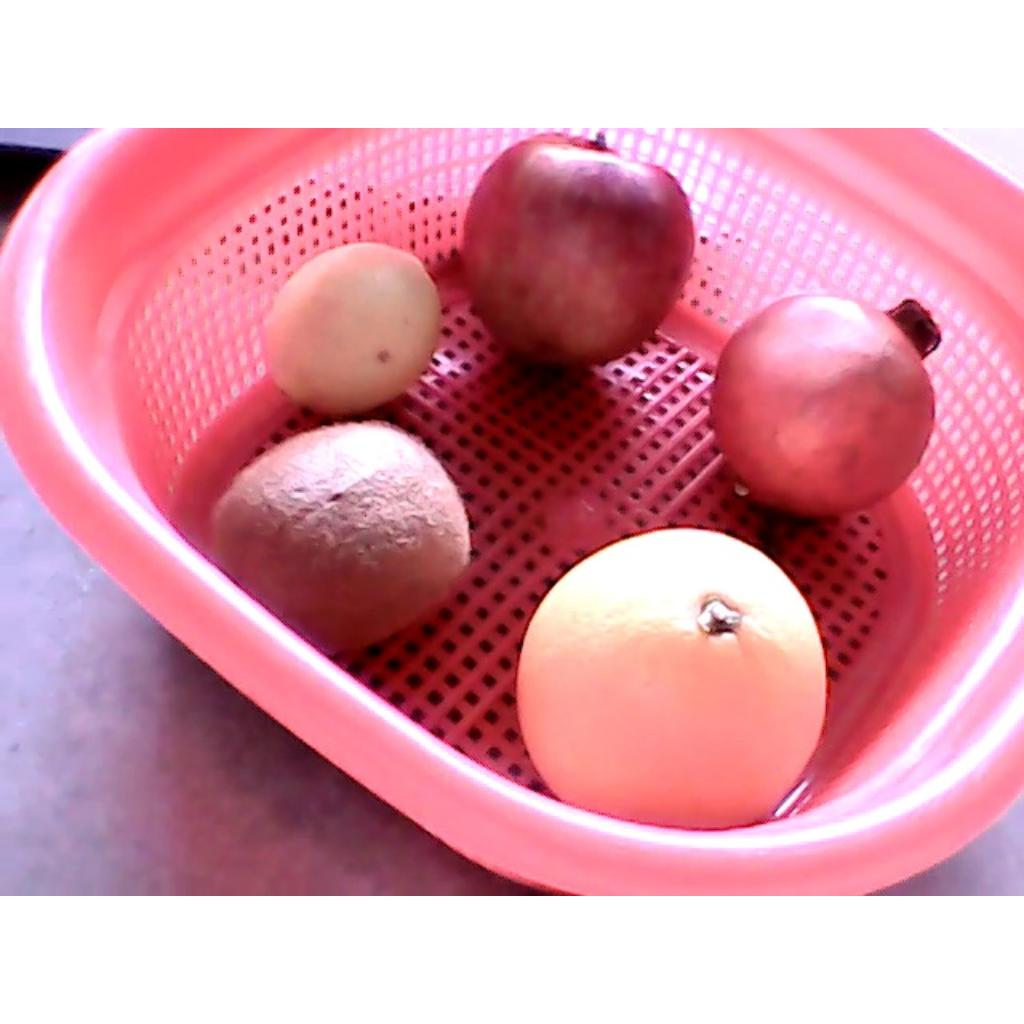apple: (463, 134, 695, 368)
kiwi: (204, 419, 474, 659)
lemon: (259, 239, 442, 415)
orange: (516, 527, 829, 832)
pomegranate: (711, 291, 939, 518)
